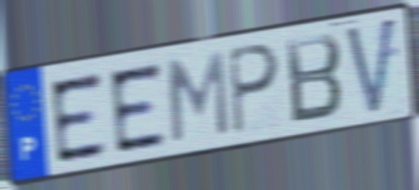B: (282, 30, 345, 128)
E: (106, 58, 170, 157), (46, 68, 110, 167)
M: (165, 48, 231, 146)
P: (225, 40, 282, 139)
V: (342, 13, 399, 121)
